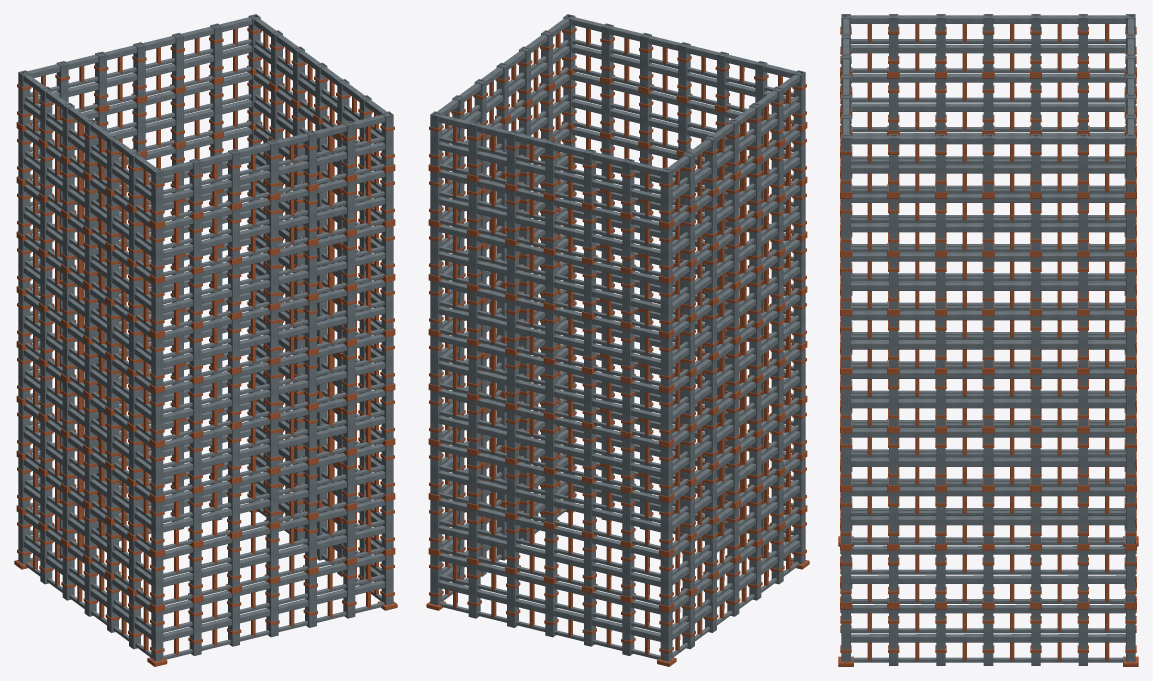
The picture shows the model from 3 angles, left to right: view 1: azimuth 30°, elevation 25°; view 2: azimuth 150°, elevation 25°; view 3: azimuth 270°, elevation 25°; orthographic projection. The views are drawn at different scales.
Visible parts, largest first — view 1: Tier 8 side 0 post 0, Tier 0 side 0 post 0, Tier 2 side 0 post 0, Tier 1 side 0 post 0, Tier 6 side 0 post 0, Tier 4 side 0 post 0, Tier 5 side 0 post 0, Tier 3 side 0 post 0, Tier 7 side 0 post 0; view 2: Tier 8 side 3 post 0, Tier 0 side 3 post 0, Tier 2 side 3 post 0, Tier 1 side 3 post 0, Tier 5 side 3 post 0, Tier 6 side 3 post 0, Tier 4 side 3 post 0, Tier 3 side 3 post 0, Tier 7 side 3 post 0; view 3: Tier 8 side 1 post 3, Tier 8 side 3 post 3, Tier 0 side 1 post 3, Tier 8 side 1 post 0, Tier 8 side 1 post 2, Tier 8 side 1 post 4, Tier 8 side 2 post 0, Tier 8 side 3 post 2, Tier 8 side 3 post 4, Tier 8 side 1 post 1, Tier 8 side 1 post 5, Tier 4 side 1 post 3 (+61 smaller).
Boxes of the visible parts, x1=… form: Tier 8 side 0 post 0: x1=151, y1=167, x2=163, y2=222; Tier 0 side 0 post 0: x1=151, y1=610, x2=163, y2=661; Tier 2 side 0 post 0: x1=151, y1=500, x2=163, y2=551; Tier 1 side 0 post 0: x1=151, y1=555, x2=163, y2=606; Tier 6 side 0 post 0: x1=151, y1=281, x2=163, y2=332; Tier 4 side 0 post 0: x1=151, y1=391, x2=163, y2=441; Tier 5 side 0 post 0: x1=151, y1=336, x2=163, y2=387; Tier 3 side 0 post 0: x1=151, y1=446, x2=163, y2=496; Tier 7 side 0 post 0: x1=151, y1=227, x2=163, y2=277; Tier 8 side 3 post 0: x1=660, y1=167, x2=672, y2=222; Tier 0 side 3 post 0: x1=660, y1=610, x2=672, y2=661; Tier 2 side 3 post 0: x1=660, y1=500, x2=672, y2=551; Tier 1 side 3 post 0: x1=660, y1=555, x2=672, y2=606; Tier 5 side 3 post 0: x1=660, y1=336, x2=672, y2=387; Tier 6 side 3 post 0: x1=660, y1=281, x2=672, y2=332; Tier 4 side 3 post 0: x1=660, y1=391, x2=672, y2=441; Tier 3 side 3 post 0: x1=660, y1=446, x2=672, y2=496; Tier 7 side 3 post 0: x1=660, y1=227, x2=672, y2=277; Tier 8 side 1 post 3: x1=983, y1=134, x2=993, y2=192; Tier 8 side 3 post 3: x1=983, y1=14, x2=993, y2=71; Tier 0 side 1 post 3: x1=983, y1=609, x2=993, y2=665; Tier 8 side 1 post 0: x1=841, y1=134, x2=850, y2=192; Tier 8 side 1 post 2: x1=936, y1=134, x2=945, y2=192; Tier 8 side 1 post 4: x1=1031, y1=134, x2=1040, y2=192; Tier 8 side 2 post 0: x1=1126, y1=134, x2=1135, y2=192; Tier 8 side 3 post 2: x1=1031, y1=14, x2=1040, y2=71; Tier 8 side 3 post 4: x1=936, y1=14, x2=945, y2=71; Tier 8 side 1 post 1: x1=889, y1=134, x2=898, y2=192; Tier 8 side 1 post 5: x1=1078, y1=134, x2=1087, y2=192; Tier 4 side 1 post 3: x1=983, y1=374, x2=993, y2=426.
Bounding box in the file's own units: 2.85 × 5.52 × 2.85.
2 materials, 2 textured.
